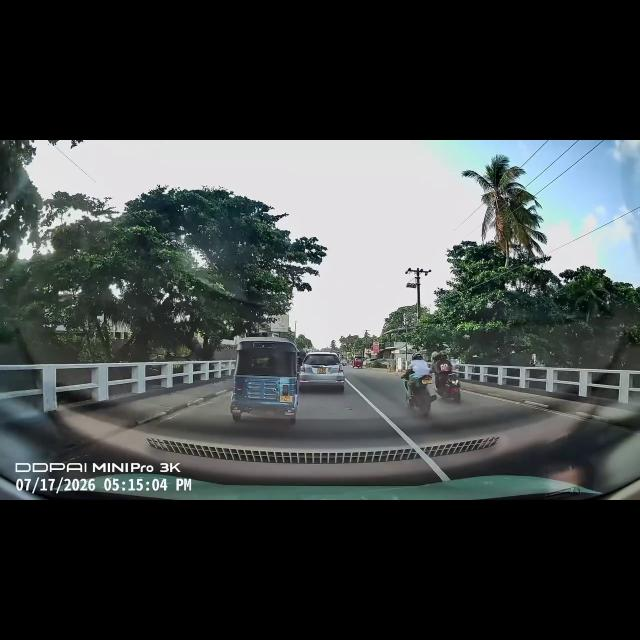car: (305, 352, 343, 388)
helmet: (441, 350, 451, 360), (431, 352, 439, 362)
motorcycle: (404, 374, 438, 416), (440, 374, 462, 400)
number_plate: (280, 394, 294, 404)
person: (407, 357, 431, 388), (440, 354, 446, 386), (433, 355, 439, 377)
solid_line: (350, 391, 406, 455)
three_wheeler: (241, 338, 299, 420)
